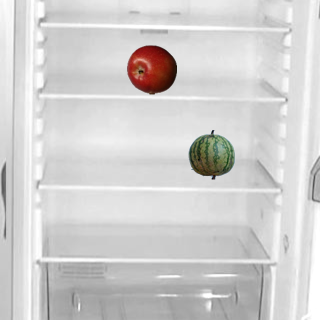Apple Braeburn: (126, 44, 176, 94)
Watermelon: (186, 129, 236, 179)
